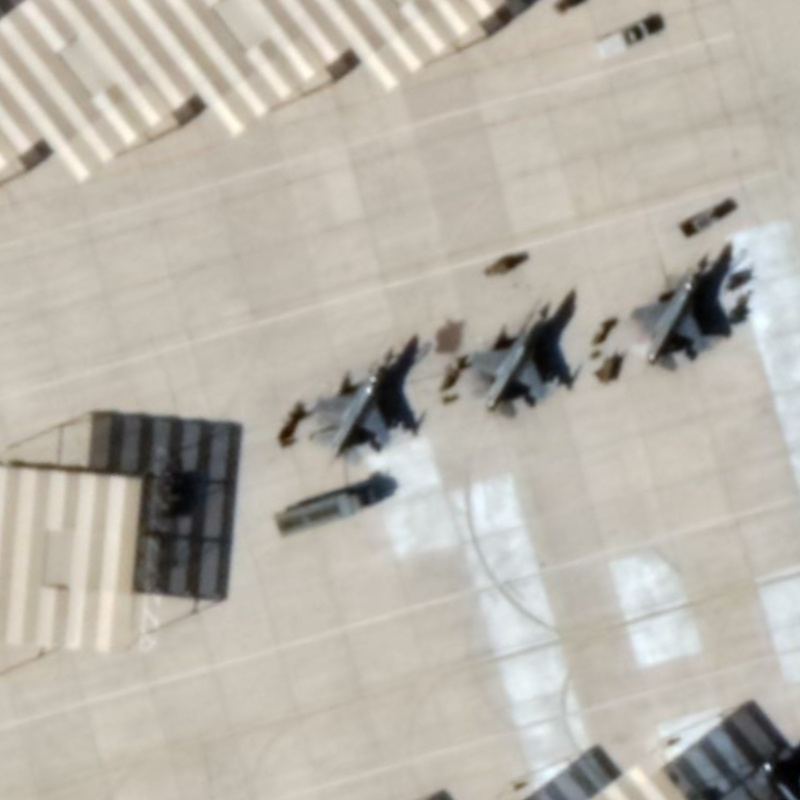A5: (459, 297, 562, 423), (300, 342, 401, 463), (621, 250, 716, 372)
